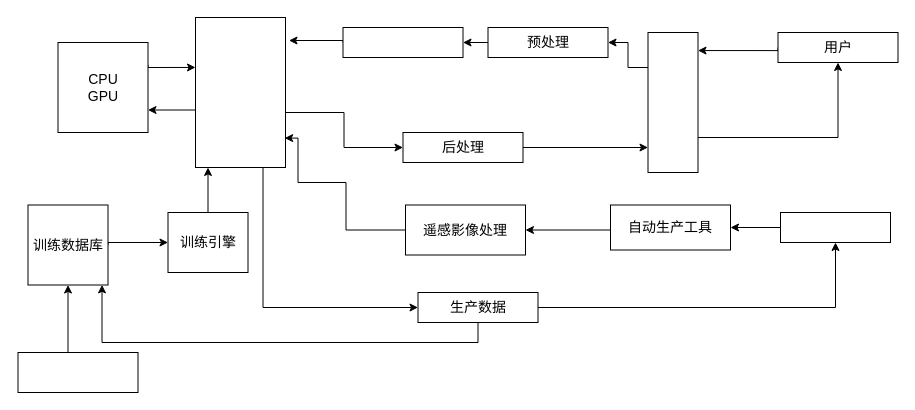
Some shapes in this 915 by 410 pixel diagram are drawn without their labels. Each missing label, with the box of its shape:
AI模型 model 1 model 2 ... model n: (194, 16, 286, 168)
cs/bs端: (647, 32, 698, 172)
人工参与: (17, 352, 138, 392)
工程人员: (780, 212, 890, 242)
选择器: (342, 26, 463, 58)
